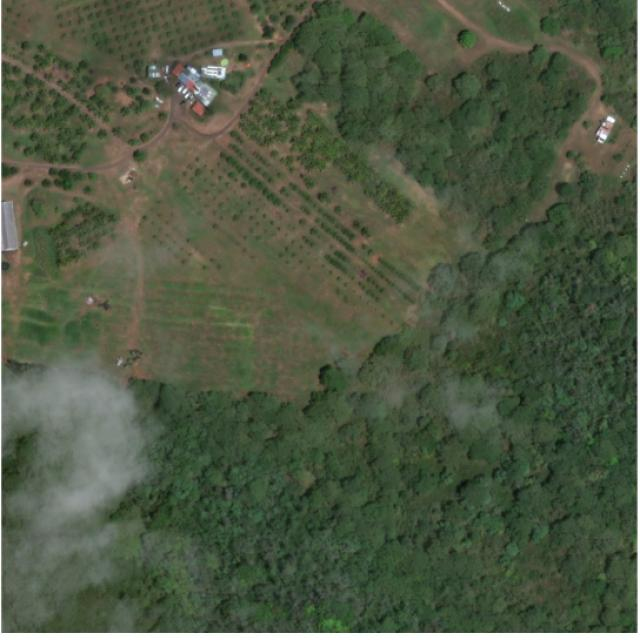old_road: (438, 1, 607, 112), (134, 98, 243, 151)
